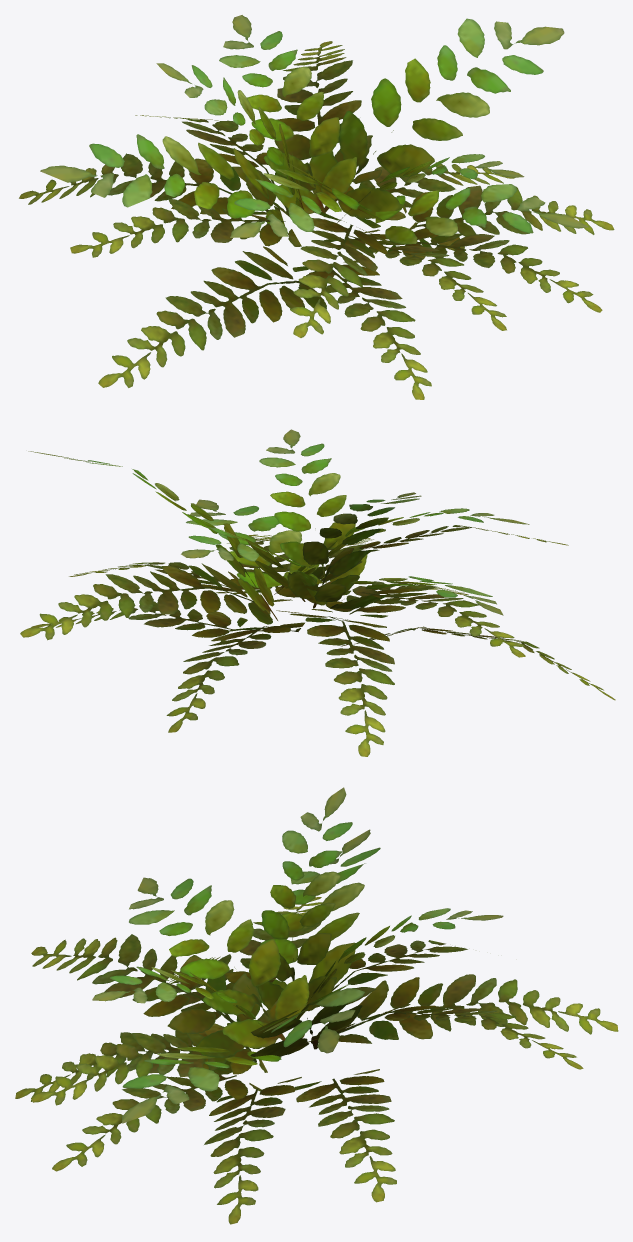
File: m_zhiwu_012.FBX
3 renders of one model, top to bottom at view 1: azimuth 30°, elevation 25°; view 2: azimuth 150°, elevation 25°; view 3: azimuth 270°, elevation 25°, orthographic. The views are drawn at different scales.
Parts seen in each view (by area): view 1: m_zhiwu_012; view 2: m_zhiwu_012; view 3: m_zhiwu_012.
Boxes of the visible parts, x1=… form: m_zhiwu_012: x1=19, y1=15, x2=614, y2=399; m_zhiwu_012: x1=20, y1=429, x2=615, y2=756; m_zhiwu_012: x1=15, y1=787, x2=618, y2=1224.
Bounding box in the file's own units: 90.51 × 39.97 × 84.47.
